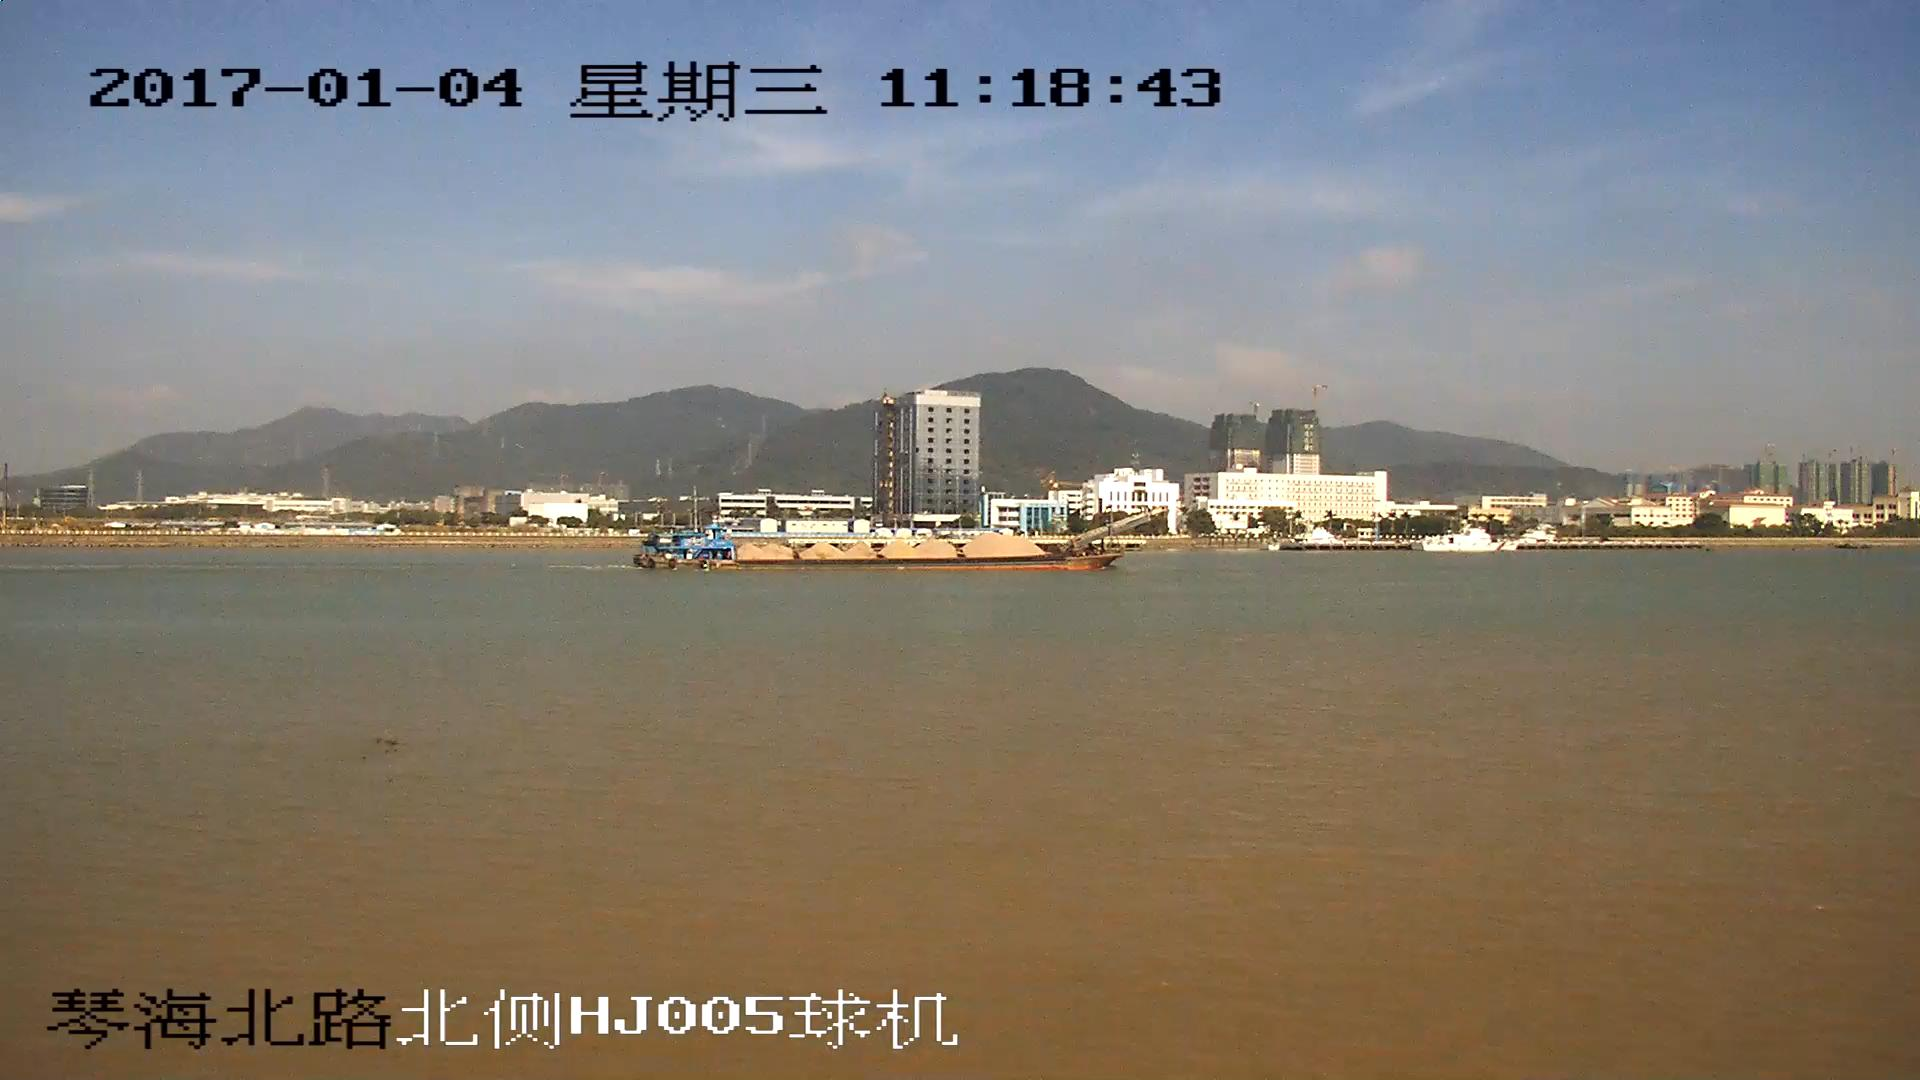ore carrier: (637, 509, 1163, 575)
